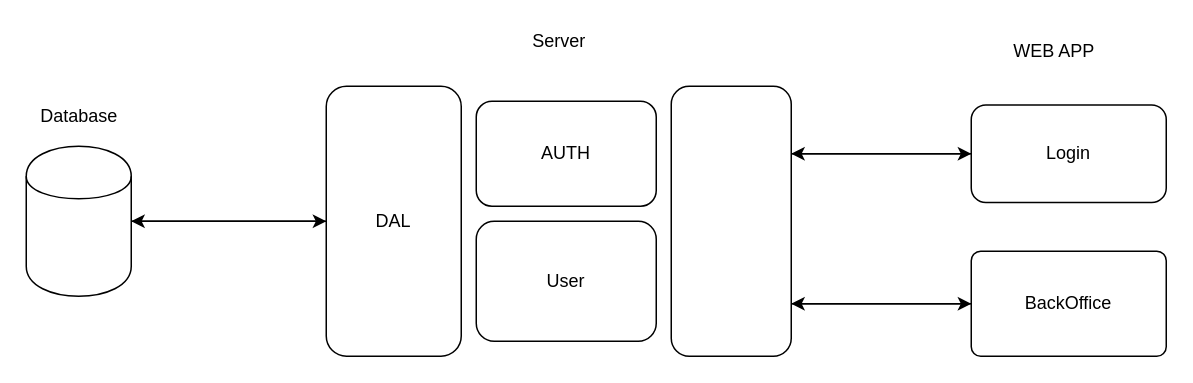
The diagram is 1193 pixels wide and 383 high, and some of its shapes have lost their labels. Here are the shapes that lost their labels. From the top down, the centre of each, then its label:
At (x=78, y=220): "DB".
At (x=730, y=220): "API".
